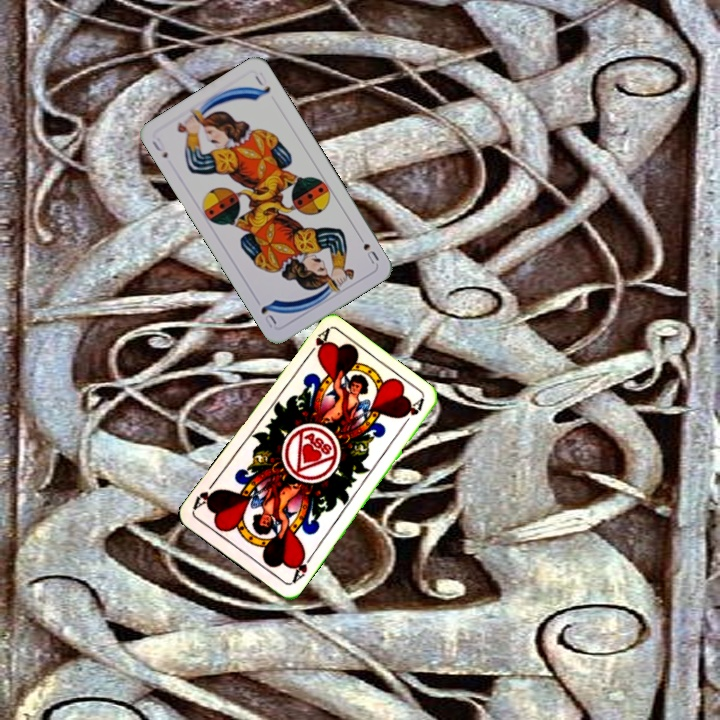HA: (287, 549, 316, 586), (302, 326, 332, 361)
SU: (353, 229, 382, 267), (148, 133, 171, 161)
